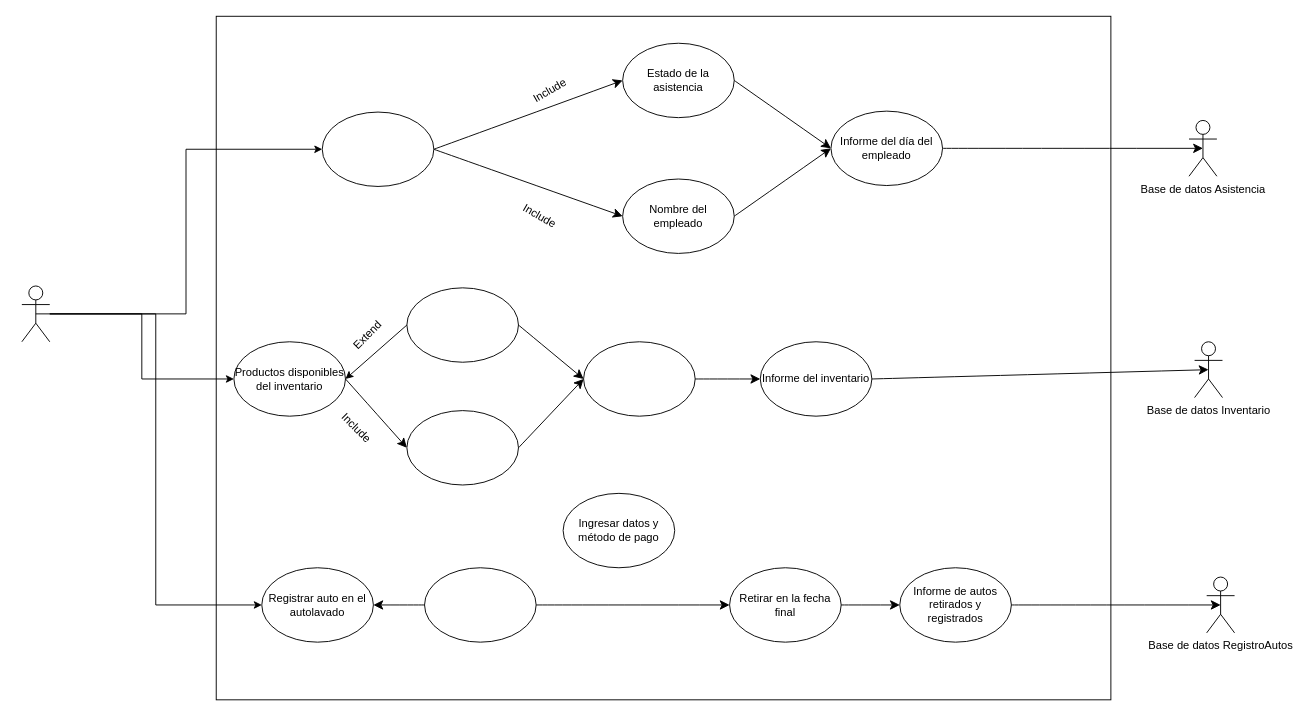
This 1309x716 diagram has some shape labels left out. The shapes that lost their labels are listed below. From the top down, each one's centre as x and y in pixels, then its label:
At [377,148]: "Registrar Asistencia de empleado".
At [35,313]: "Gerebte".
At [462,324]: "Agregar productos al inventario".
At [639,378]: "Actualización del inventario".
At [462,447]: "Cantidad de insumos de productos por auto".
At [480,604]: "Reservar".
